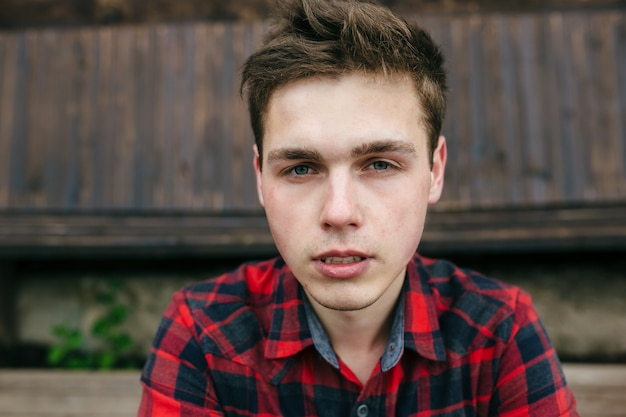teen: (247, 8, 458, 305)
